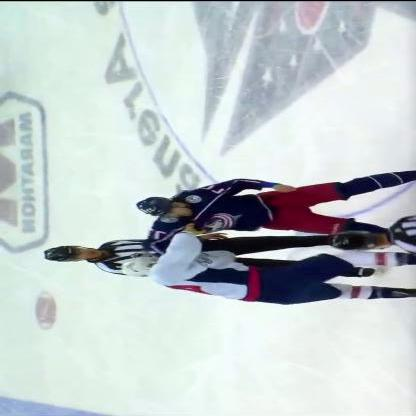voilence: (122, 174, 414, 304)
